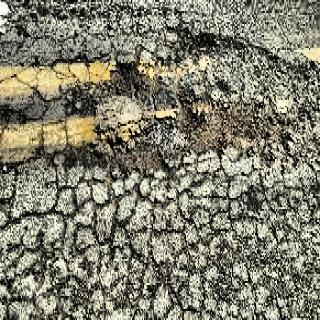alligator-crack: (47, 152, 242, 252), (83, 230, 245, 301), (21, 56, 96, 140), (107, 5, 189, 53)
